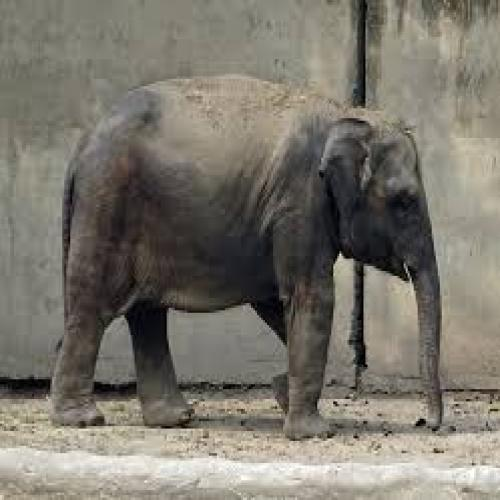asian_elephant-endangered: (62, 75, 442, 426)
